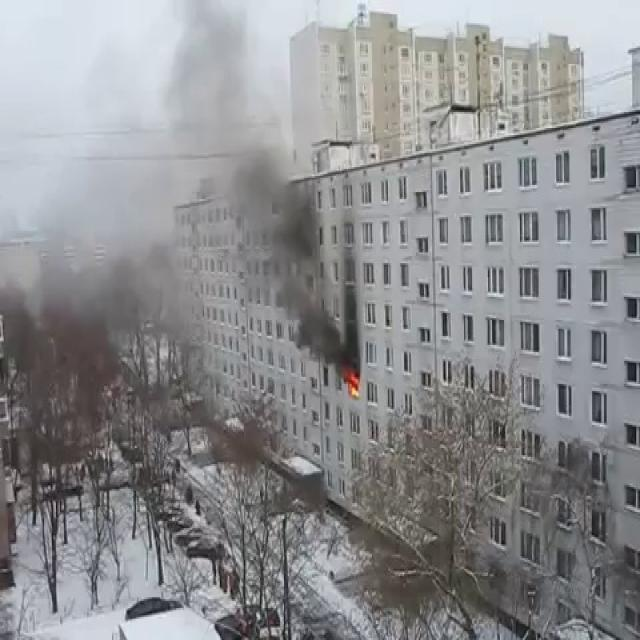Fire: (341, 362, 364, 401)
Smoke: (0, 0, 352, 366)
